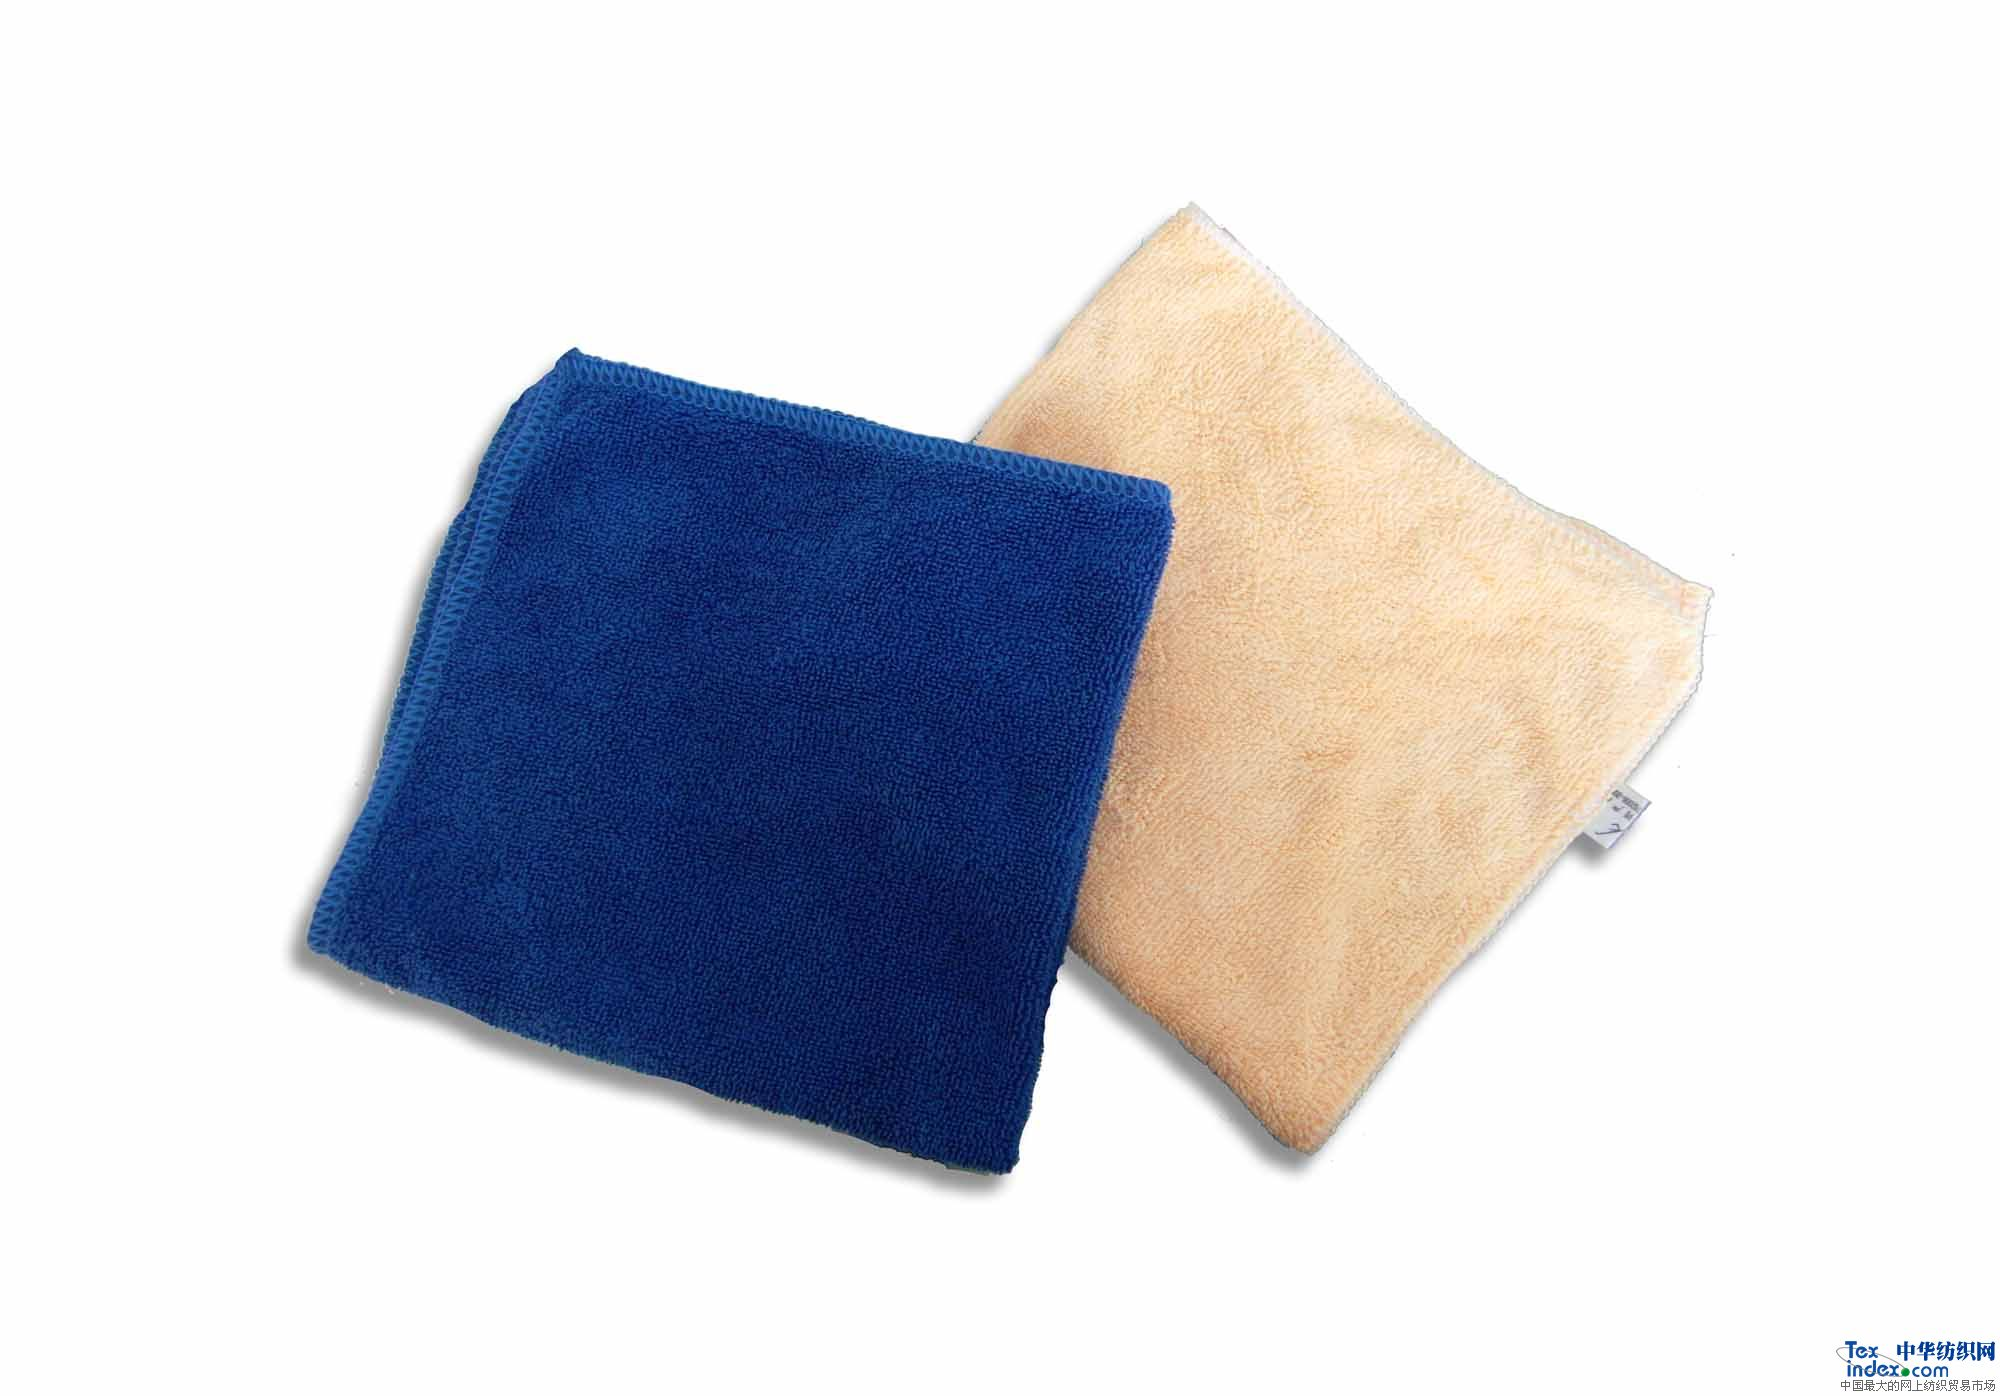flexible: (293, 175, 1737, 1199)
